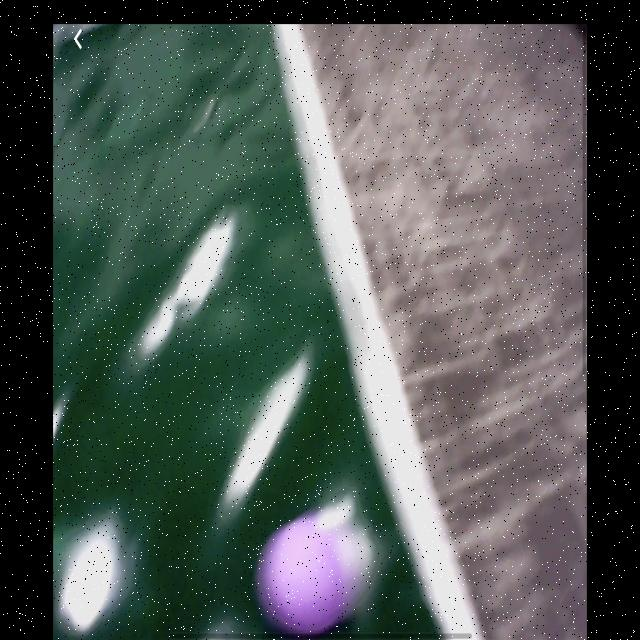ball: (255, 519, 345, 636)
